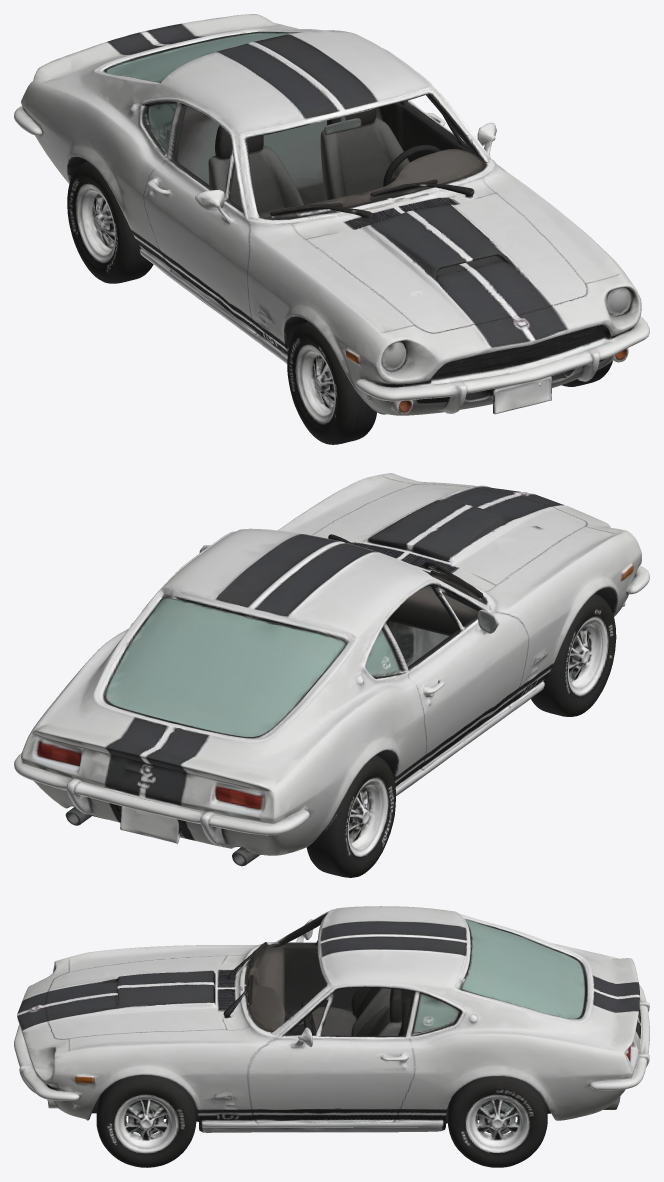
Rendered from 080_gt_coupe_silver.glb.
3 renders of one model, top to bottom at view 1: azimuth 30°, elevation 25°; view 2: azimuth 150°, elevation 25°; view 3: azimuth 270°, elevation 25°, orthographic. The views are drawn at different scales.
Parts seen in each view (by area): view 1: geometry_0; view 2: geometry_0; view 3: geometry_0.
Part boxes in pixels (left/top/right/bottom): geometry_0: left=14, top=14, right=649, bottom=444; geometry_0: left=14, top=473, right=649, bottom=877; geometry_0: left=14, top=906, right=649, bottom=1167.
Bounding box in the file's own units: 2.05 × 1.49 × 4.7.
Materials: 1 (1 with a texture image).
